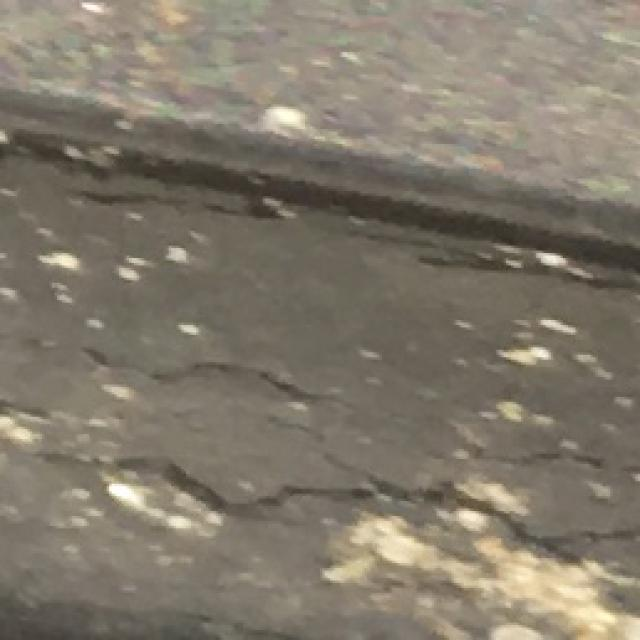Cracks: (0, 124, 638, 618)
